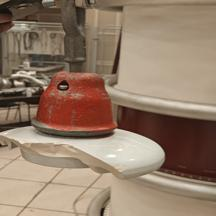insulator: (0, 63, 179, 187)
